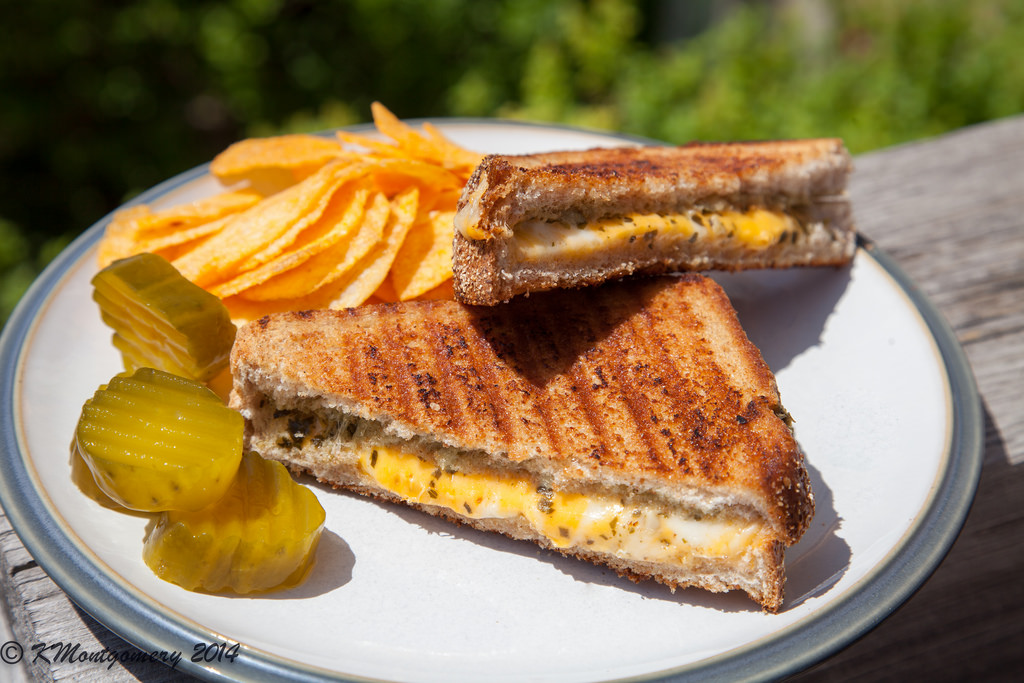slice of bread: (229, 268, 801, 602), (448, 136, 865, 301)
